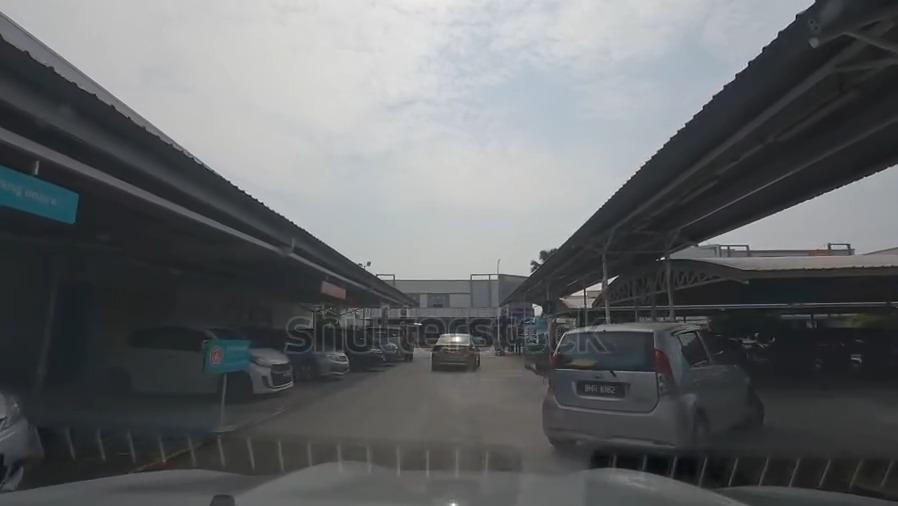car: (550, 321, 768, 449), (117, 325, 291, 402), (263, 326, 350, 383), (0, 379, 33, 491), (430, 331, 480, 371), (345, 332, 385, 371), (376, 334, 401, 361)
person: (403, 329, 415, 361)
wheel: (689, 412, 713, 461), (101, 367, 130, 401), (216, 371, 251, 399), (741, 390, 767, 427), (291, 359, 318, 381)
